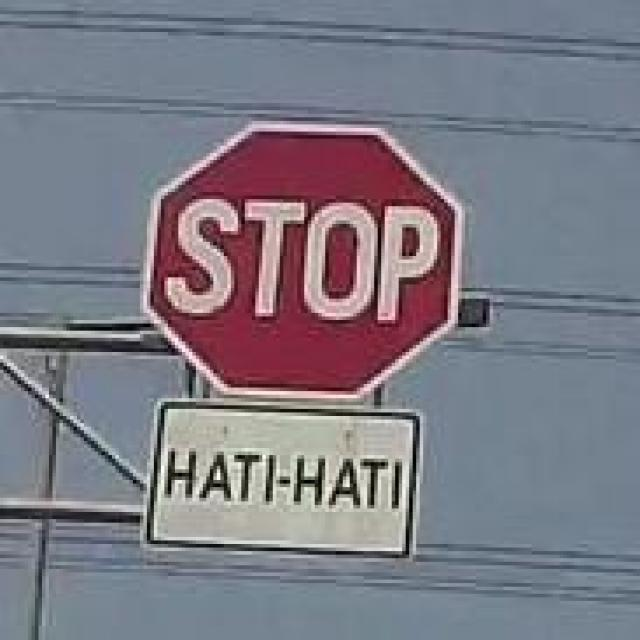traffic sign: (154, 117, 462, 402)
